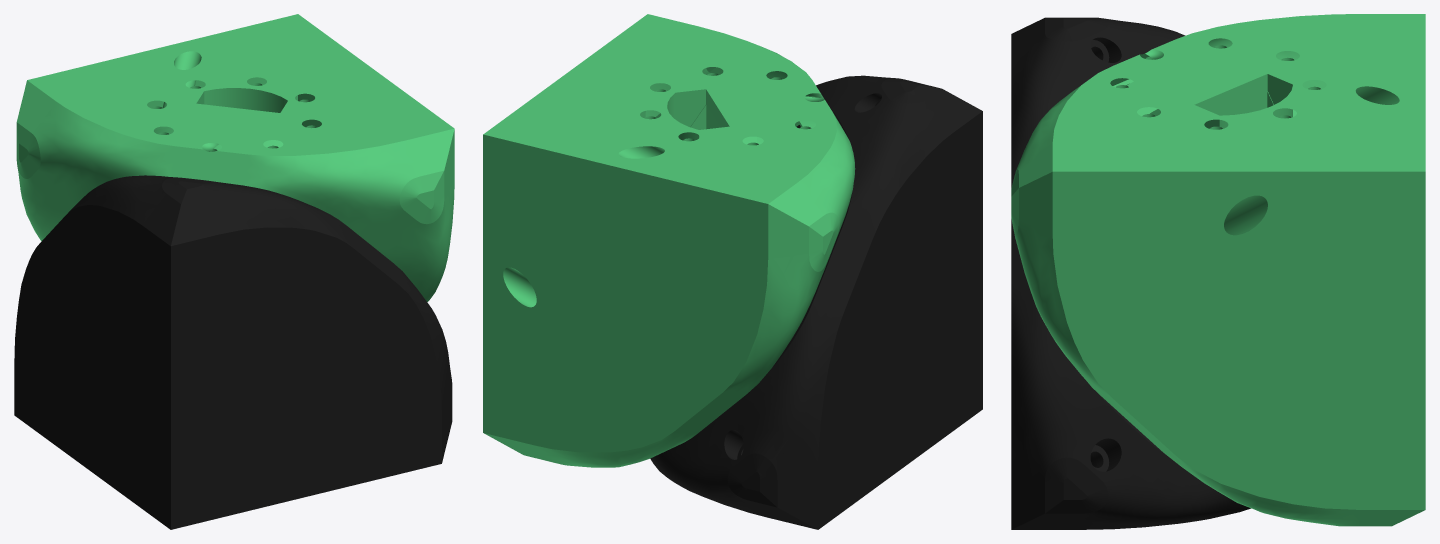
Rendered from module.glb.
3 views of the same model, side by side, from view 1: azimuth 30°, elevation 25°; view 2: azimuth 150°, elevation 25°; view 3: azimuth 270°, elevation 25° (orthographic). The views are drawn at different scales.
Visible parts, largest first — view 1: object 5, anim_morph_0_Top_1; view 2: anim_morph_0_Top_1, object 5; view 3: anim_morph_0_Top_1, object 5, anim_morph_1_Hub_Moving_1__0.
Part boxes in pixels (left/top/right/bottom): object 5: left=14, top=175, right=452, bottom=529; anim_morph_0_Top_1: left=16, top=14, right=454, bottom=301; anim_morph_0_Top_1: left=483, top=14, right=855, bottom=467; object 5: left=650, top=75, right=982, bottom=529; anim_morph_0_Top_1: left=1011, top=14, right=1425, bottom=526; object 5: left=1011, top=17, right=1250, bottom=529; anim_morph_1_Hub_Moving_1__0: left=1215, top=91, right=1273, bottom=115.
Size of the model in its own units: 0.08 by 0.08 by 0.08.
